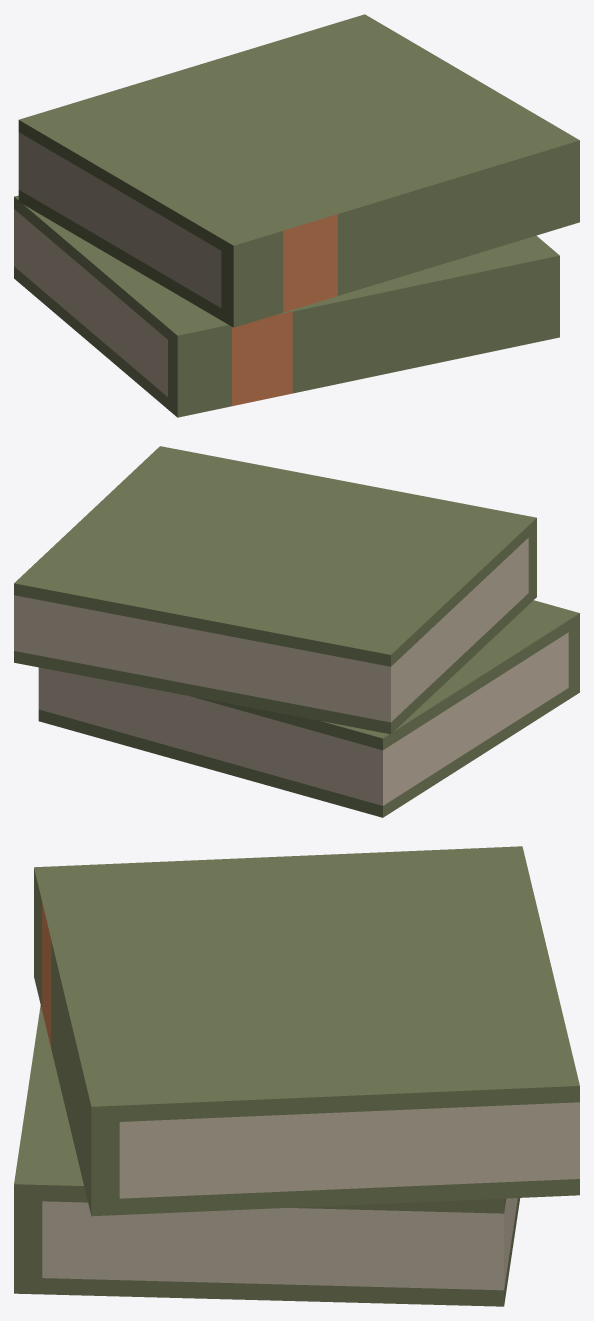
File: SM_Prop_Book_Group_06.fbx
3 renders of one model, top to bottom at view 1: azimuth 30°, elevation 25°; view 2: azimuth 150°, elevation 25°; view 3: azimuth 270°, elevation 25°, orthographic. The views are drawn at different scales.
Visible parts, largest first — view 1: SM_Prop_Book_Group_06; view 2: SM_Prop_Book_Group_06; view 3: SM_Prop_Book_Group_06.
Part boxes in pixels (left/top/right/bottom): SM_Prop_Book_Group_06: left=14, top=14, right=579, bottom=417; SM_Prop_Book_Group_06: left=14, top=446, right=579, bottom=817; SM_Prop_Book_Group_06: left=14, top=846, right=579, bottom=1306.
Bounding box in the file's own units: 30.15 × 11.3 × 26.48.
